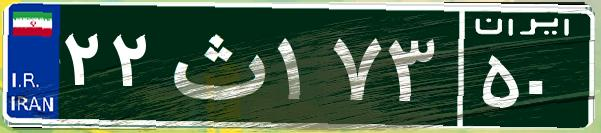0: (525, 38, 570, 115)
1: (273, 28, 330, 110)
2: (57, 26, 110, 107), (110, 28, 158, 105)
3: (385, 28, 445, 110)
5: (475, 38, 525, 113)
7: (330, 28, 385, 110)
ث: (158, 15, 273, 115)
